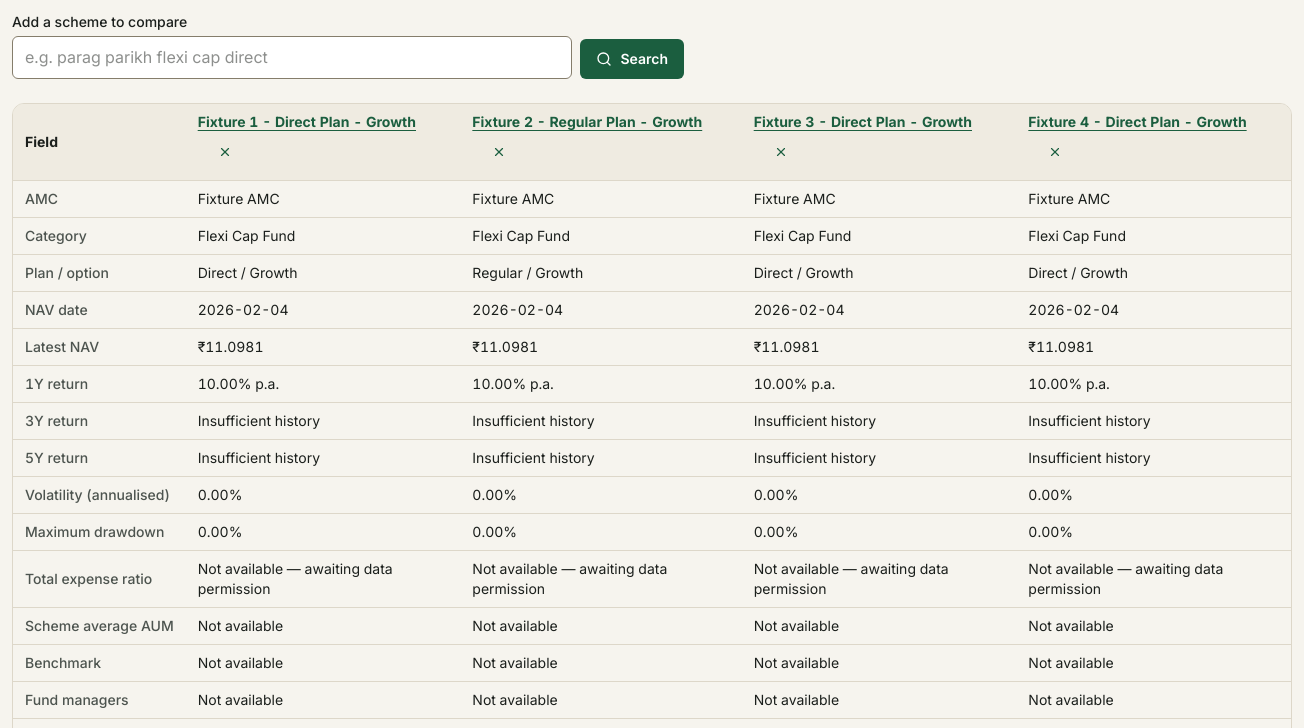
Test case: CompareFunds › refuses a fifth fund
Type "fixture" into the search field labelled "Add a scheme to compare" at x=292, y=57, box [12,36,572,79]
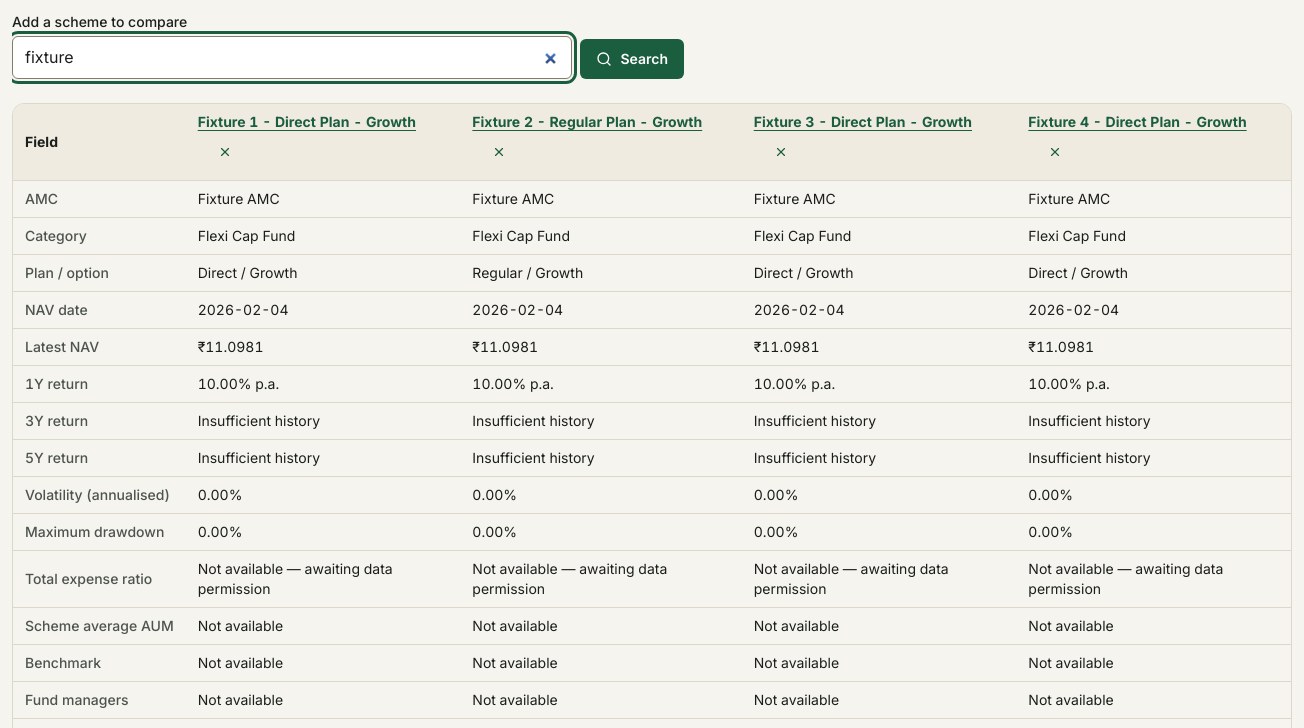
Click the button "Search" at x=632, y=59, box [580,39,684,79]
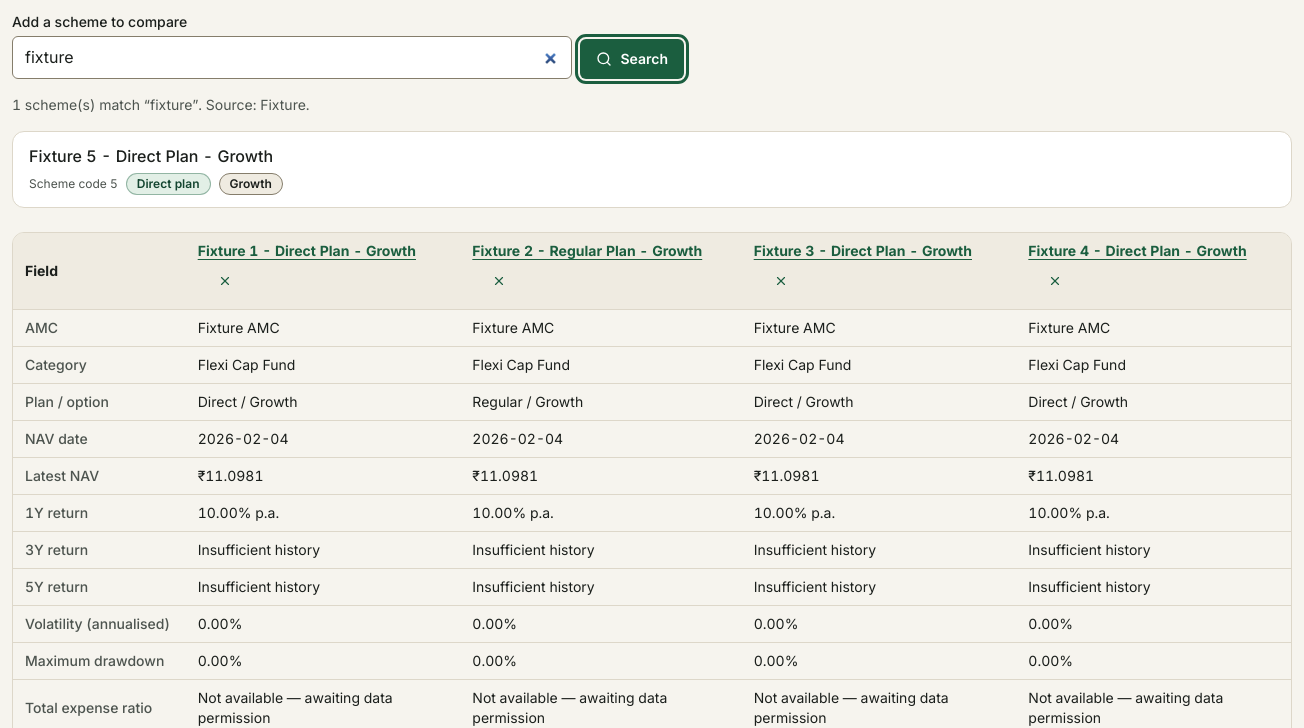
Click the button "Fixture 5" at x=151, y=156, box [13,132,1291,207]
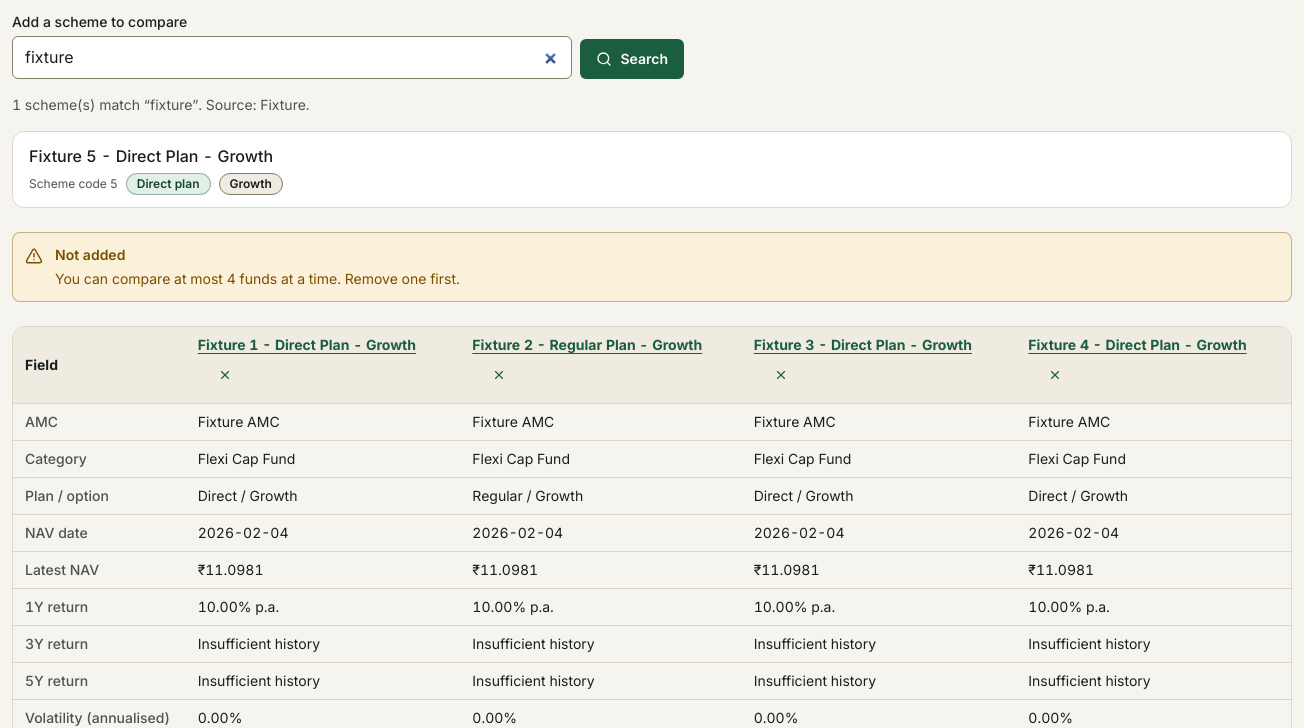
expect the text "You can compare at most 4 funds at a time. Remove one first." is shown: met, box [55,269,460,289]
